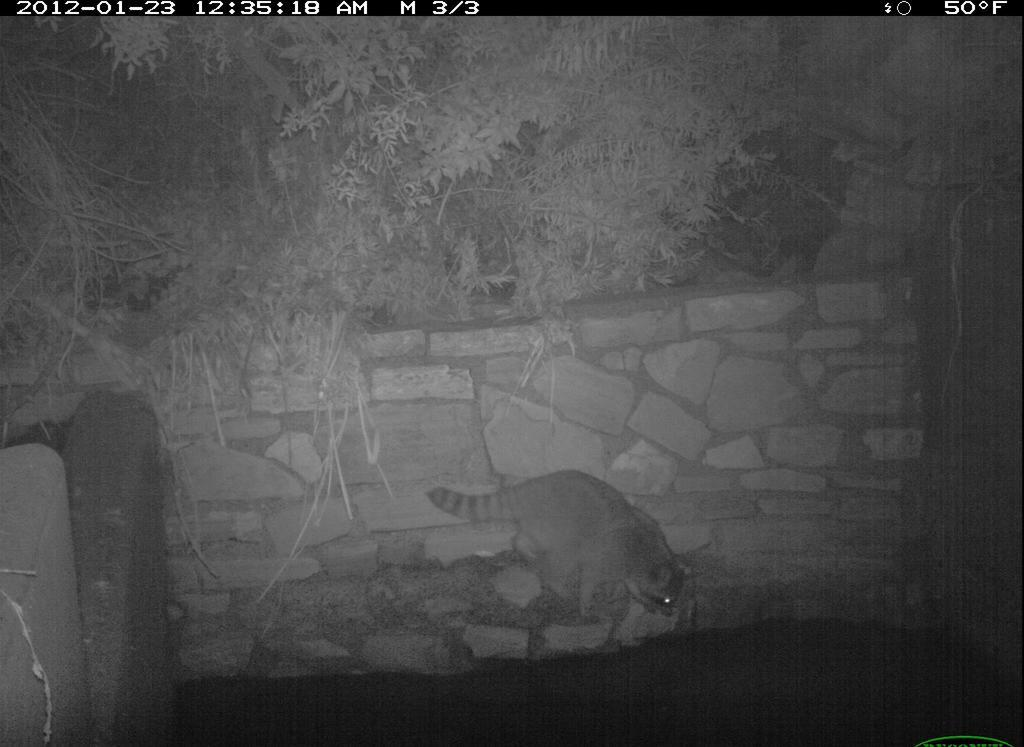raccoon: (422, 465, 694, 624)
